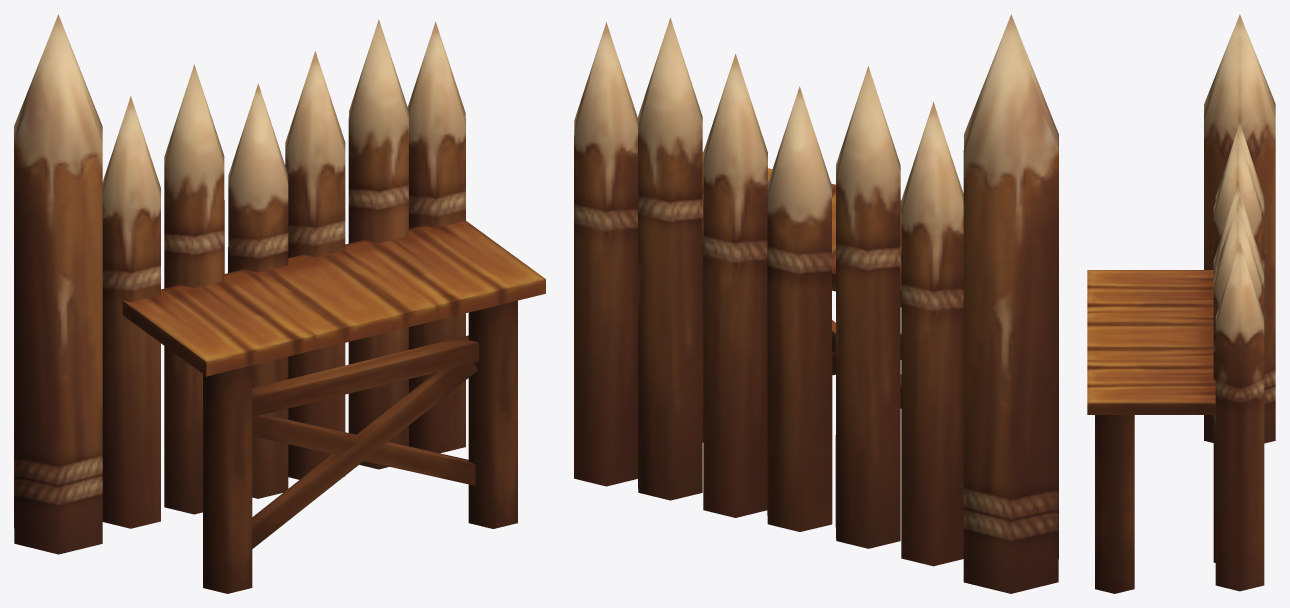
File: Stage_ShaMo_MuZhaLan01.FBX
3 views of the same model, side by side, from view 1: azimuth 30°, elevation 25°; view 2: azimuth 150°, elevation 25°; view 3: azimuth 270°, elevation 25° (orthographic). The views are drawn at different scales.
Parts seen in each view (by area): view 1: Stage_ShaMo_MuZhaLan01; view 2: Stage_ShaMo_MuZhaLan01; view 3: Stage_ShaMo_MuZhaLan01.
Part boxes in pixels (box(x1,y1,x2,y2)): Stage_ShaMo_MuZhaLan01: box(14, 14, 545, 593); Stage_ShaMo_MuZhaLan01: box(574, 14, 1058, 593); Stage_ShaMo_MuZhaLan01: box(1087, 14, 1275, 593).
Size of the model in its own units: 317 by 357 by 142.
